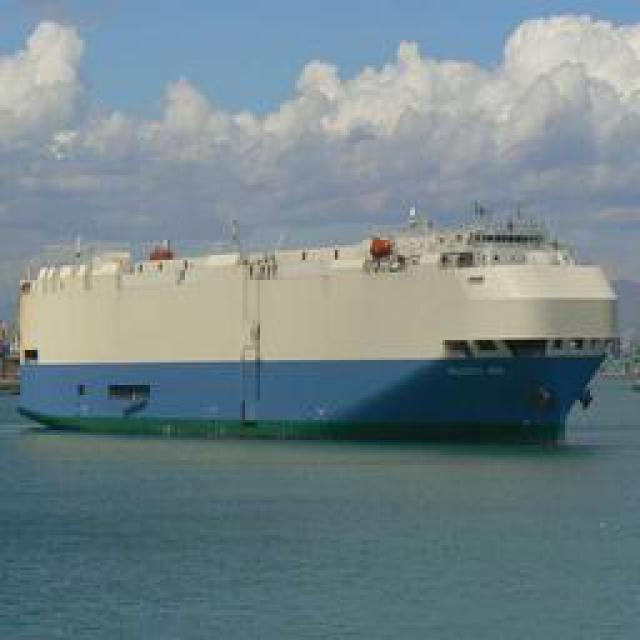Ship: (21, 223, 621, 441)
